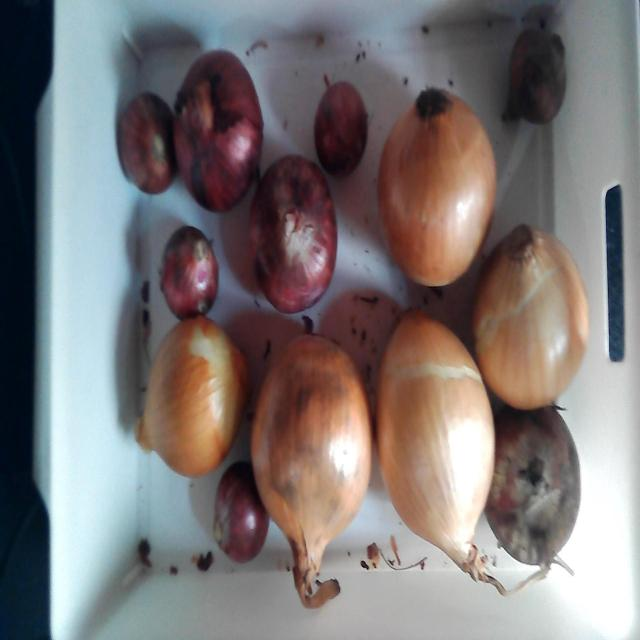Onion: (377, 309, 576, 598), (252, 331, 374, 608), (375, 88, 498, 282), (471, 223, 591, 410), (135, 314, 248, 477), (484, 404, 582, 567), (173, 50, 264, 214), (249, 153, 338, 309), (501, 24, 568, 122), (119, 91, 176, 195), (159, 225, 220, 320), (214, 460, 269, 563), (313, 82, 367, 181)
